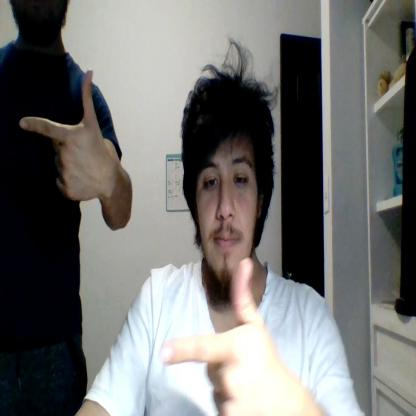G: (160, 256, 283, 416), (20, 69, 102, 200)
